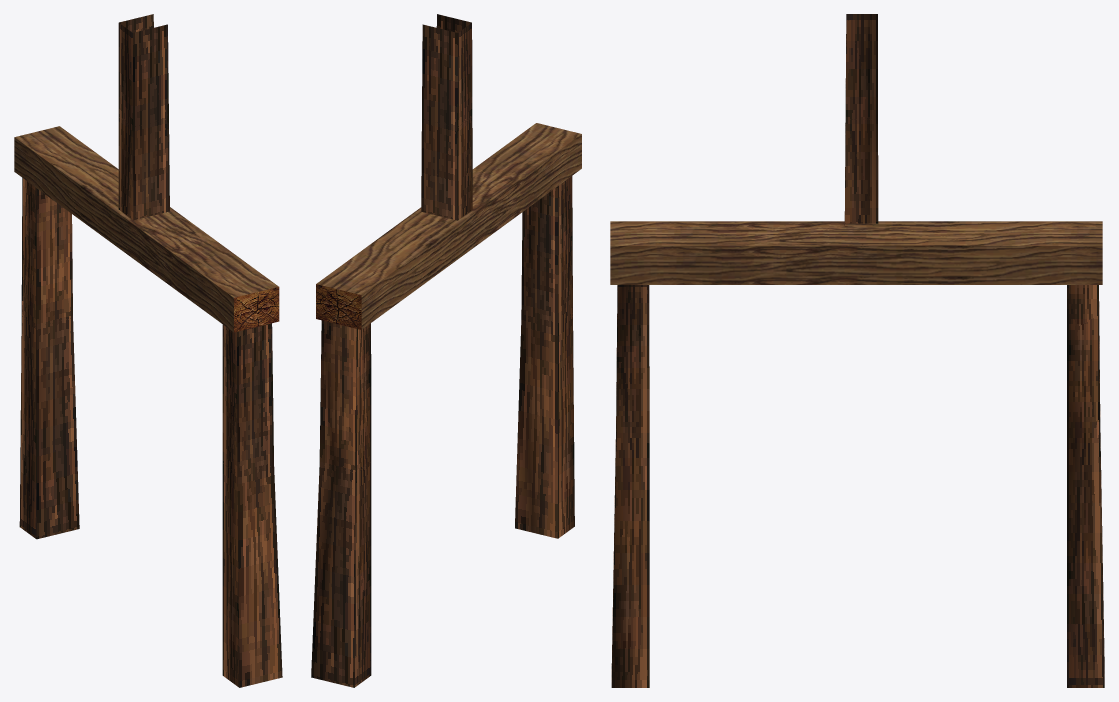
Rendered from LAKETOWN_WAREHOUSE2_PS_WH2_DOORFRAME6546__GX.obj.
3 views of the same model, side by side, from view 1: azimuth 30°, elevation 25°; view 2: azimuth 150°, elevation 25°; view 3: azimuth 270°, elevation 25° (orthographic). The views are drawn at different scales.
Parts seen in each view (by area): view 1: orFrame6546__GX; view 2: orFrame6546__GX; view 3: orFrame6546__GX.
Boxes of the visible parts, x1,y1,x2,y2 form: orFrame6546__GX: [14, 14, 282, 687]; orFrame6546__GX: [311, 14, 581, 687]; orFrame6546__GX: [610, 14, 1104, 687].
Size of the model in its own units: 43.92 by 493 by 341.
